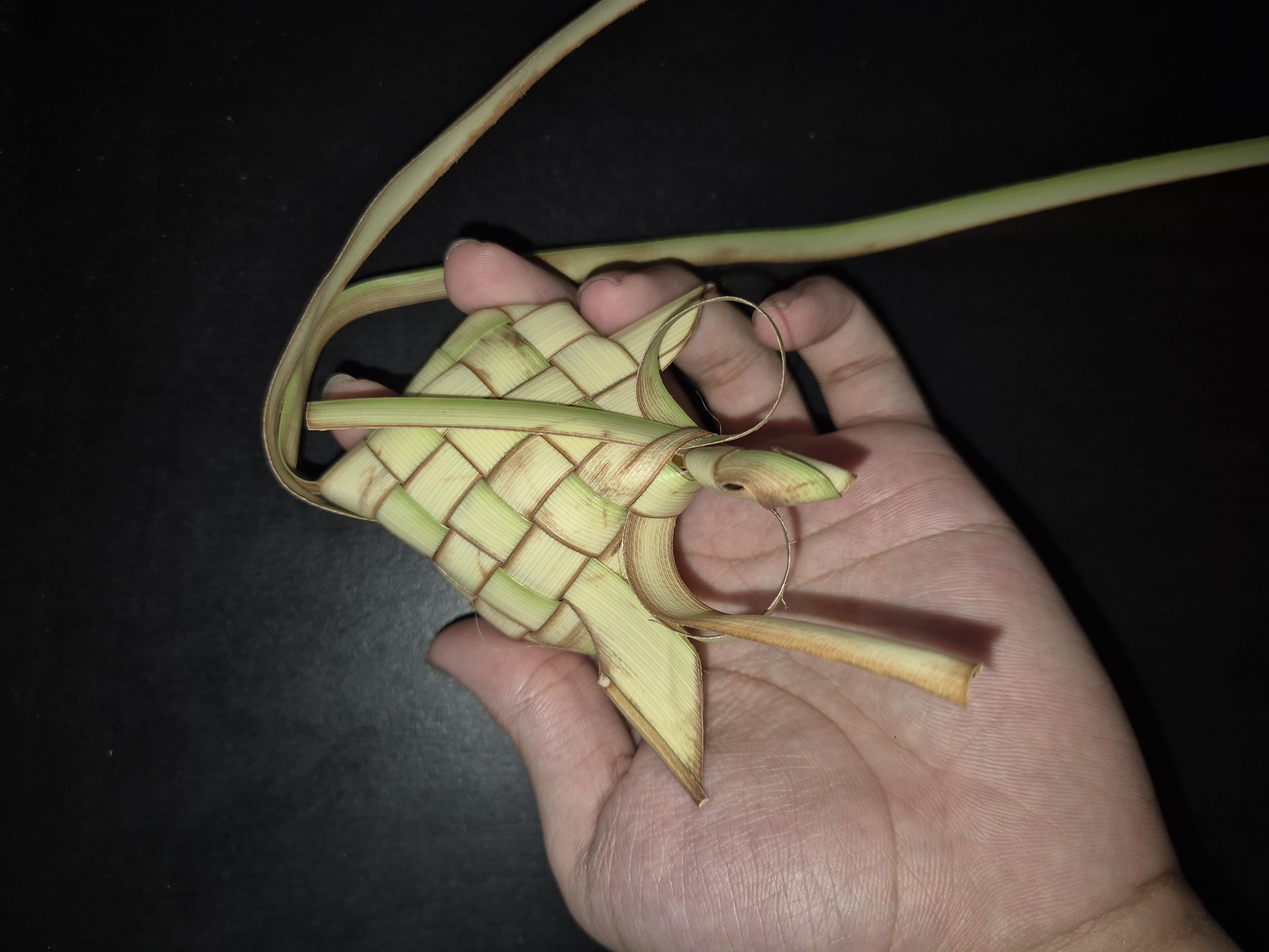Tipat Dampulan: (196, 234, 881, 732)
